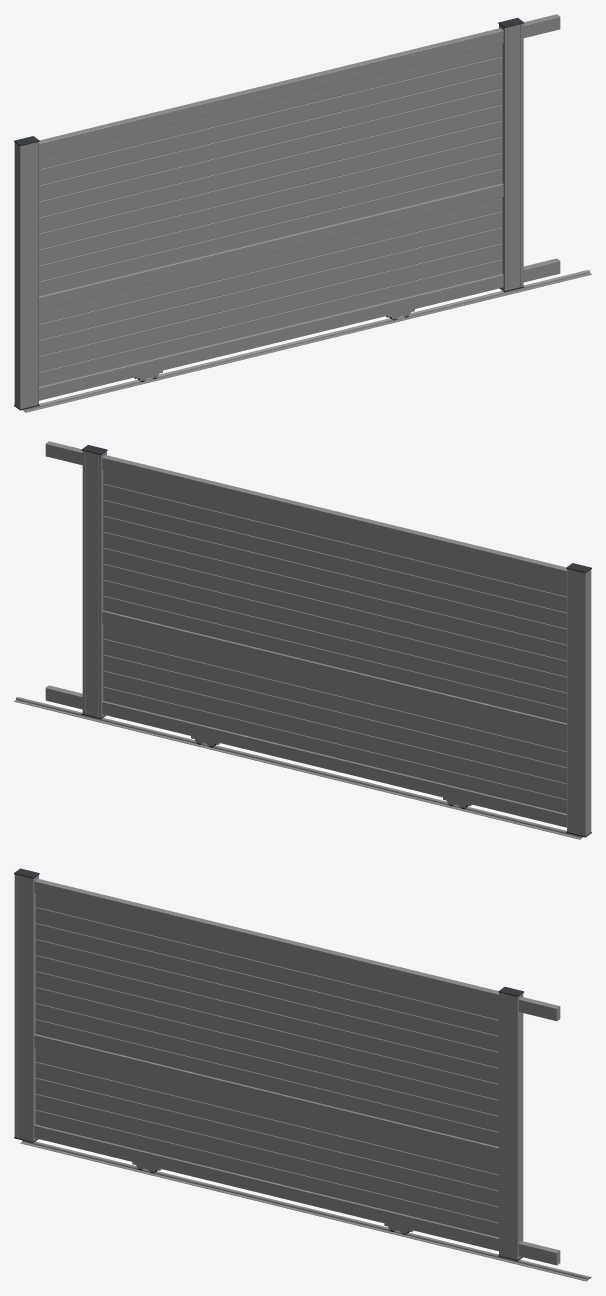
3 views of the same model, one above another, from view 1: azimuth 30°, elevation 25°; view 2: azimuth 150°, elevation 25°; view 3: azimuth 330°, elevation 25° (orthographic).
Visible parts, largest first — view 1: Shape042, Shape107412761, Shape107412757, Shape107412760, Shape107412759, Shape107412767, Shape107412768, Shape107412758, Shape107412762, Shape107412763, Shape107412766, Shape040 (+8 smaller); view 2: Shape042, Shape107412759, Shape107412761, Shape107412763, Shape107412757, Shape107412760, Shape107412762, Shape107412767, Shape107412768, Shape107412758, Shape107412766, Shape040 (+8 smaller); view 3: Shape042, Shape107412760, Shape107412761, Shape107412762, Shape107412763, Shape107412768, Shape107412757, Shape107412758, Shape107412759, Shape107412766, Shape107412767, Shape040 (+8 smaller).
Boxes of the visible parts, x1=… form: Shape042: x1=39, y1=14, x2=560, y2=156; Shape107412761: x1=39, y1=120, x2=502, y2=249; Shape107412757: x1=39, y1=56, x2=502, y2=185; Shape107412760: x1=39, y1=104, x2=502, y2=233; Shape107412759: x1=39, y1=88, x2=502, y2=217; Shape107412767: x1=39, y1=227, x2=502, y2=355; Shape107412768: x1=39, y1=243, x2=502, y2=371; Shape107412758: x1=39, y1=72, x2=502, y2=201; Shape107412762: x1=39, y1=136, x2=502, y2=265; Shape107412763: x1=39, y1=152, x2=502, y2=281; Shape107412766: x1=39, y1=211, x2=502, y2=339; Shape040: x1=39, y1=258, x2=560, y2=400; Shape042: x1=45, y1=441, x2=566, y2=583; Shape107412759: x1=103, y1=516, x2=566, y2=644; Shape107412761: x1=103, y1=548, x2=566, y2=676; Shape107412763: x1=103, y1=580, x2=566, y2=708; Shape107412757: x1=103, y1=484, x2=566, y2=612; Shape107412760: x1=103, y1=532, x2=566, y2=660; Shape107412762: x1=103, y1=564, x2=566, y2=692; Shape107412767: x1=103, y1=654, x2=566, y2=783; Shape107412768: x1=103, y1=670, x2=566, y2=799; Shape107412758: x1=103, y1=500, x2=566, y2=628; Shape107412766: x1=103, y1=638, x2=566, y2=767; Shape040: x1=45, y1=685, x2=566, y2=827; Shape042: x1=34, y1=878, x2=560, y2=1021; Shape107412760: x1=35, y1=955, x2=498, y2=1083; Shape107412761: x1=35, y1=971, x2=498, y2=1099; Shape107412762: x1=35, y1=987, x2=498, y2=1115; Shape107412763: x1=35, y1=1003, x2=498, y2=1131; Shape107412768: x1=35, y1=1094, x2=498, y2=1222; Shape107412757: x1=35, y1=907, x2=498, y2=1035; Shape107412758: x1=35, y1=923, x2=498, y2=1051; Shape107412759: x1=35, y1=939, x2=498, y2=1067; Shape107412766: x1=35, y1=1062, x2=498, y2=1190; Shape107412767: x1=35, y1=1078, x2=498, y2=1206; Shape040: x1=34, y1=1124, x2=560, y2=1265.
Bounding box in the file's own units: 3638 × 1636 × 70.
6 materials, 2 textured.
